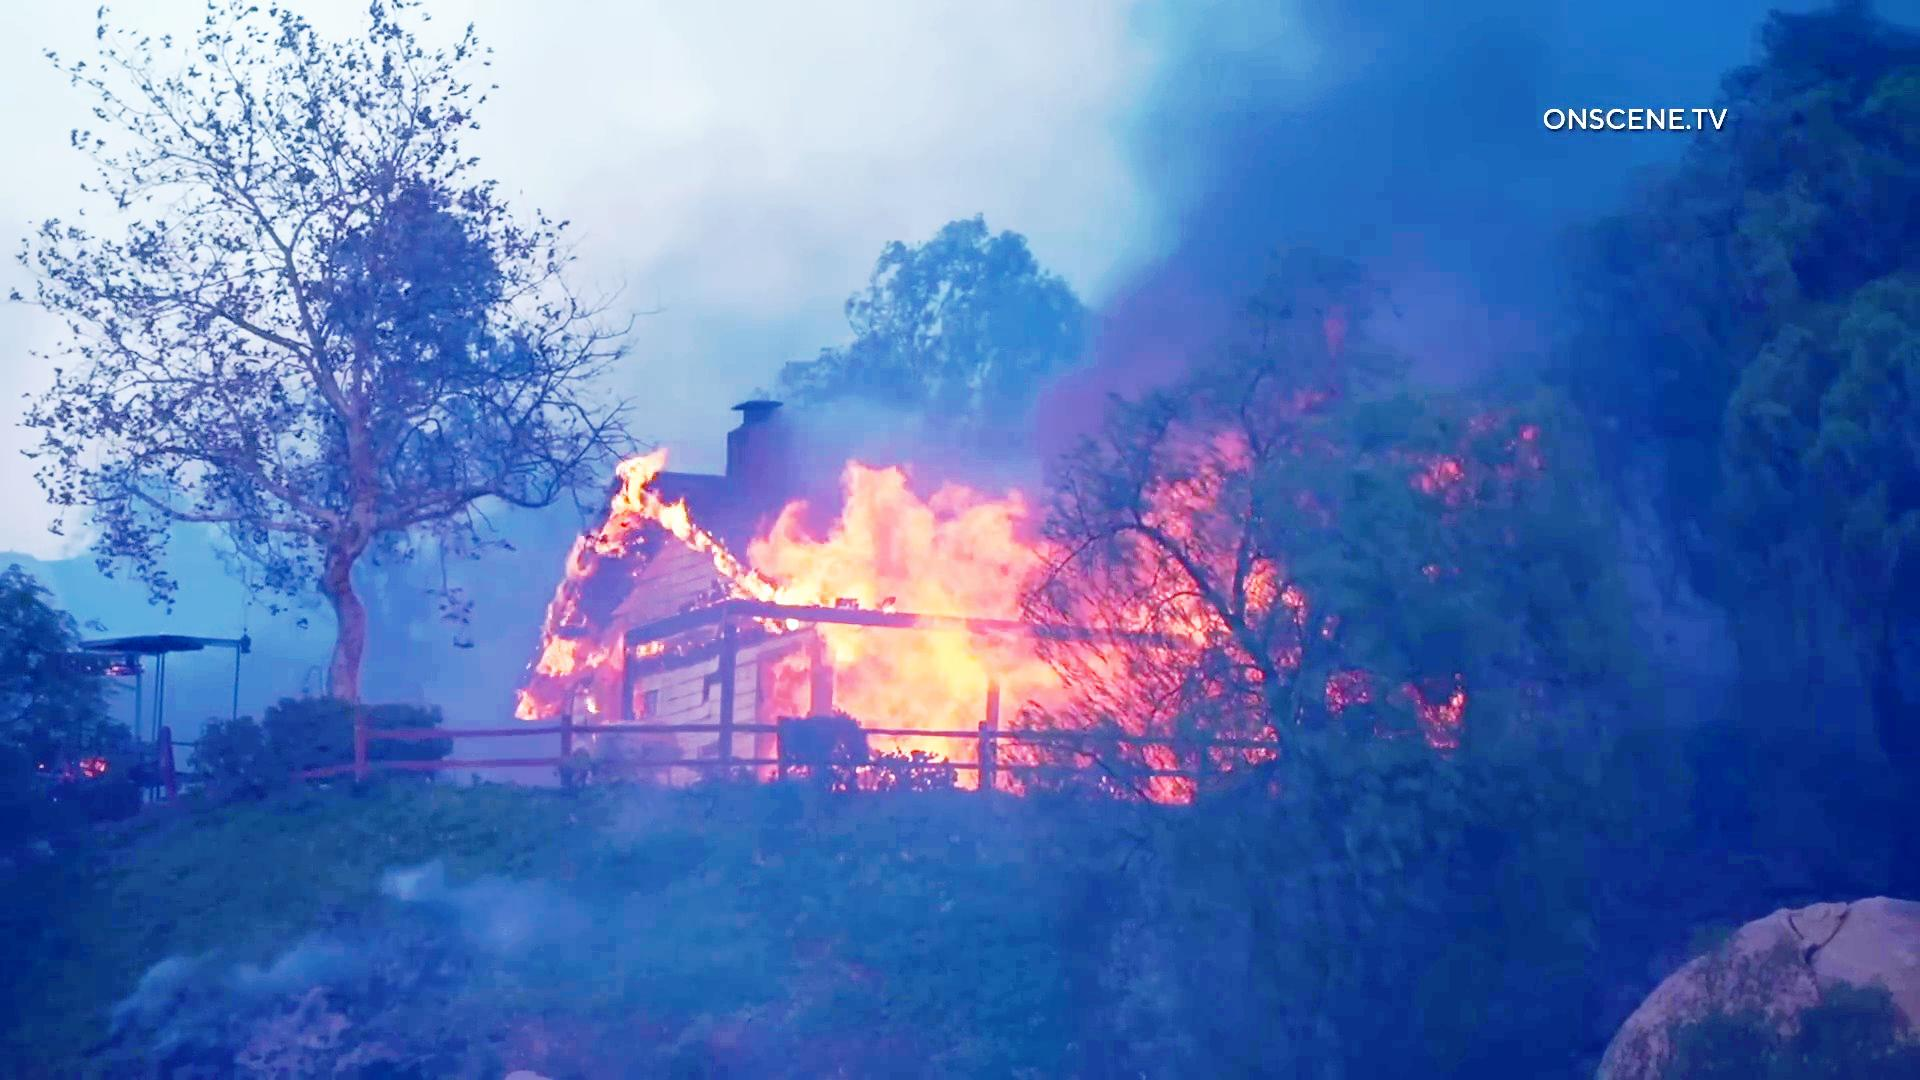fire: (752, 407, 1110, 723)
